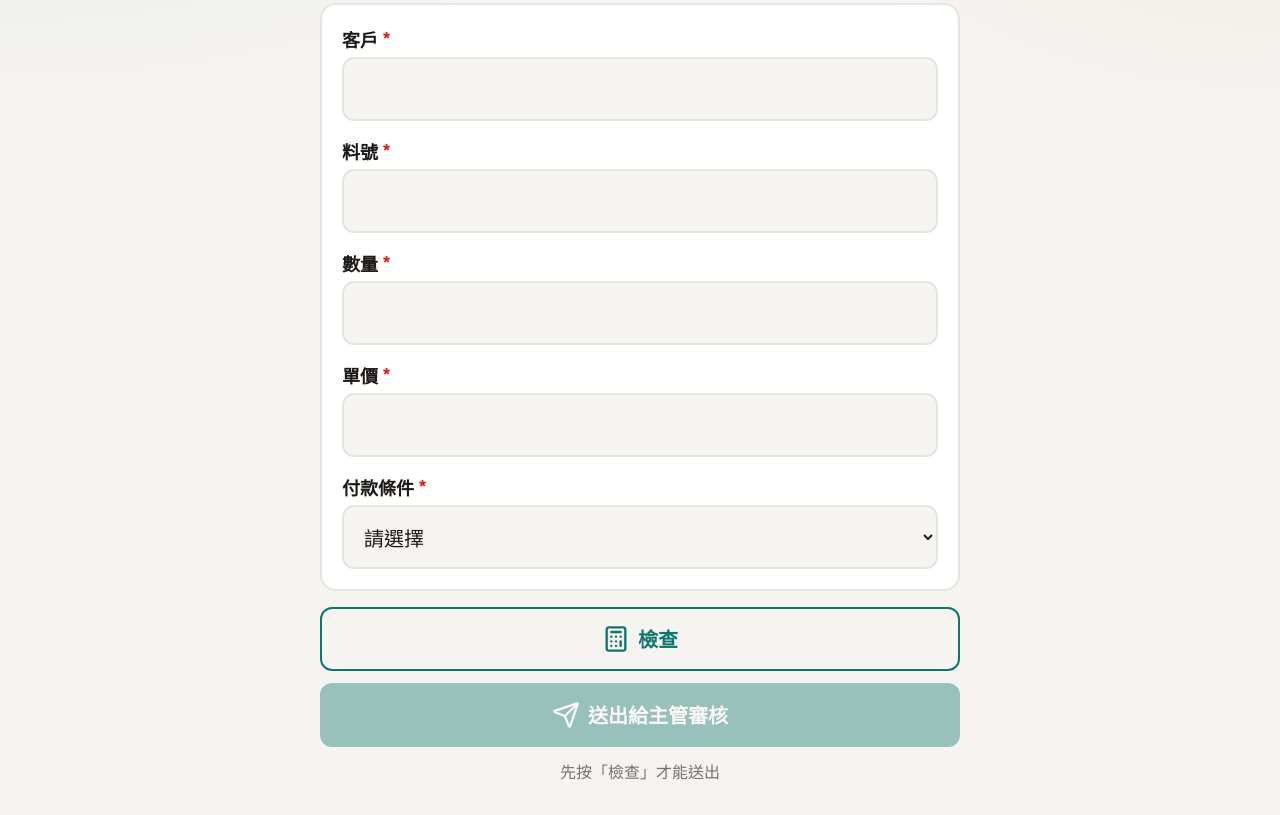
FormPage › 檢查流程：建檔→計算→驗證，通過後可送出審核
Type "台中精機" into the field labelled "客戶*" at (640, 89), box left=342, top=57, right=938, bottom=121
Type "P-100" into the field labelled "料號*" at (640, 201), box left=342, top=169, right=938, bottom=233
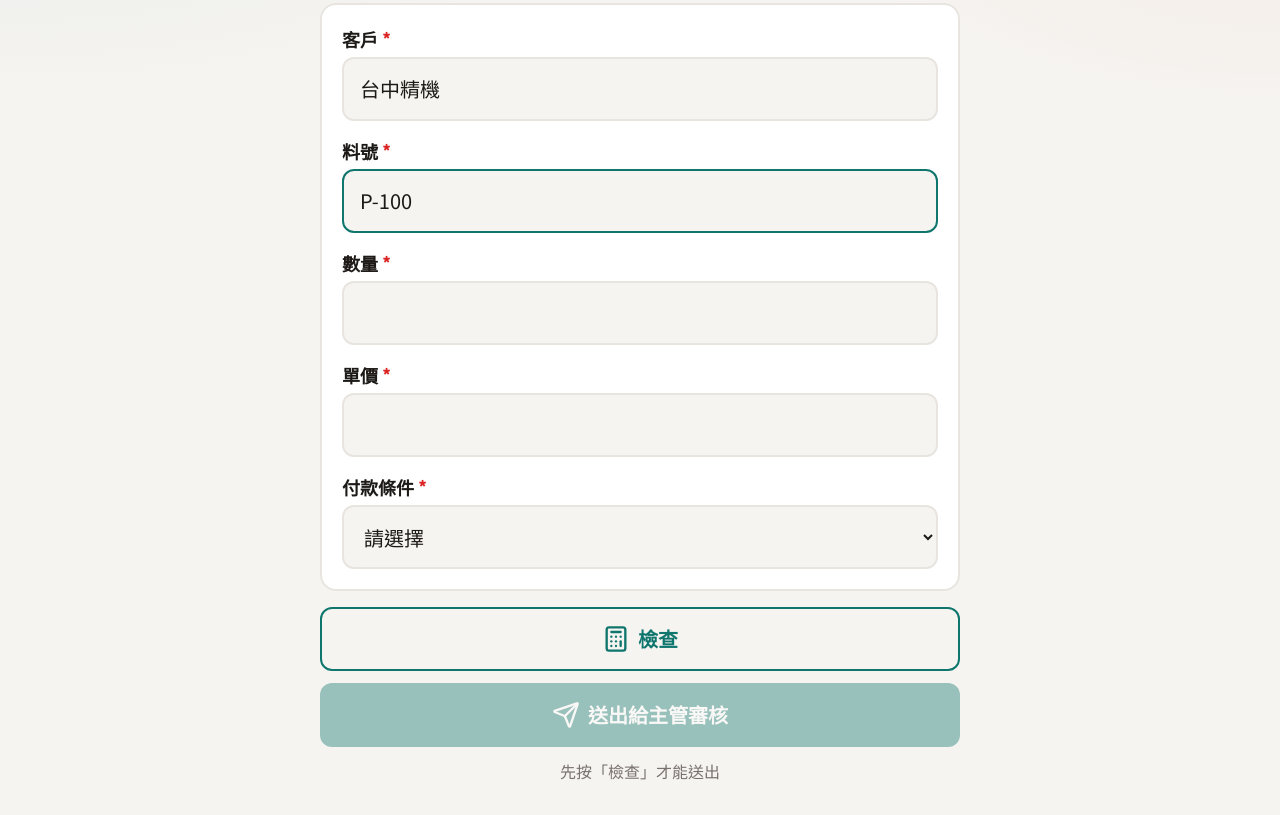
Type "200" into the number field labelled "數量*" at (640, 313), box left=342, top=281, right=938, bottom=345
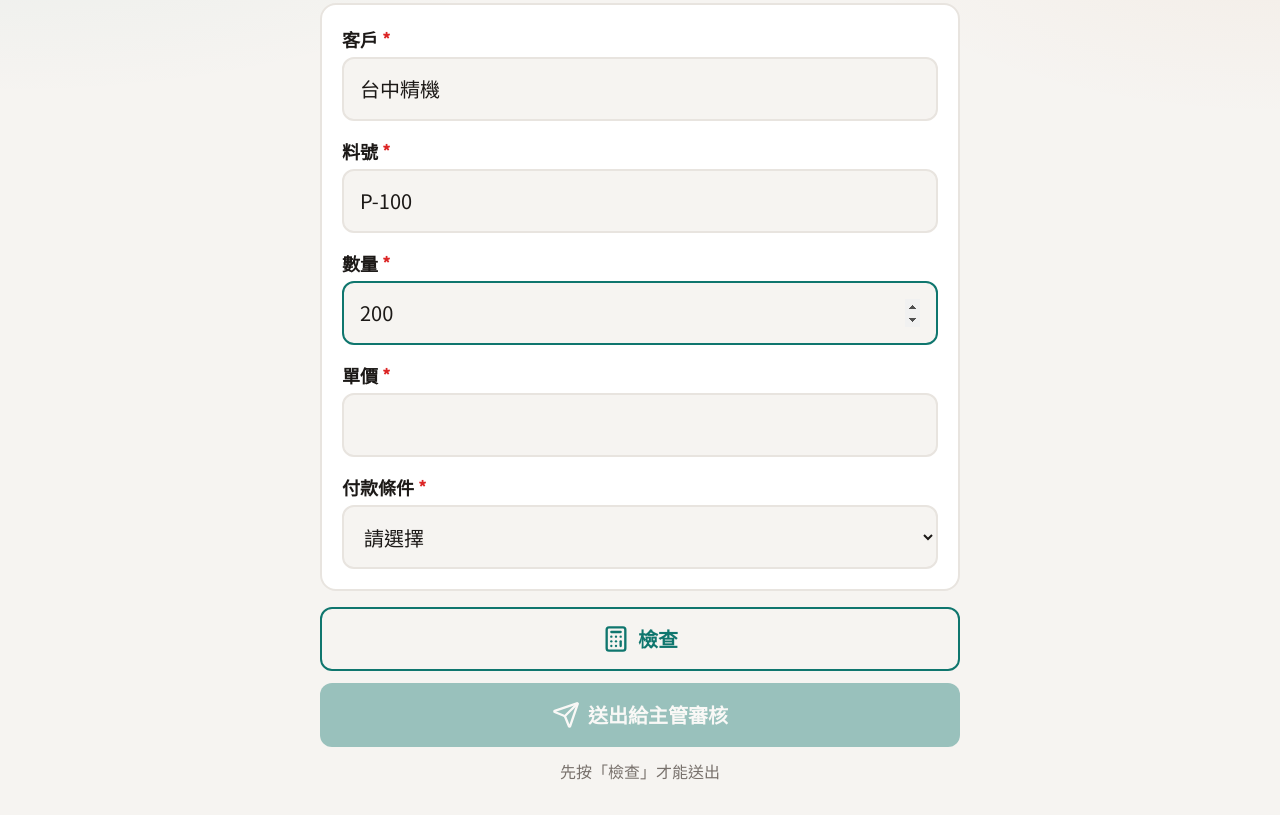
Type "120" into the number field labelled "單價*" at (640, 425), box left=342, top=393, right=938, bottom=457
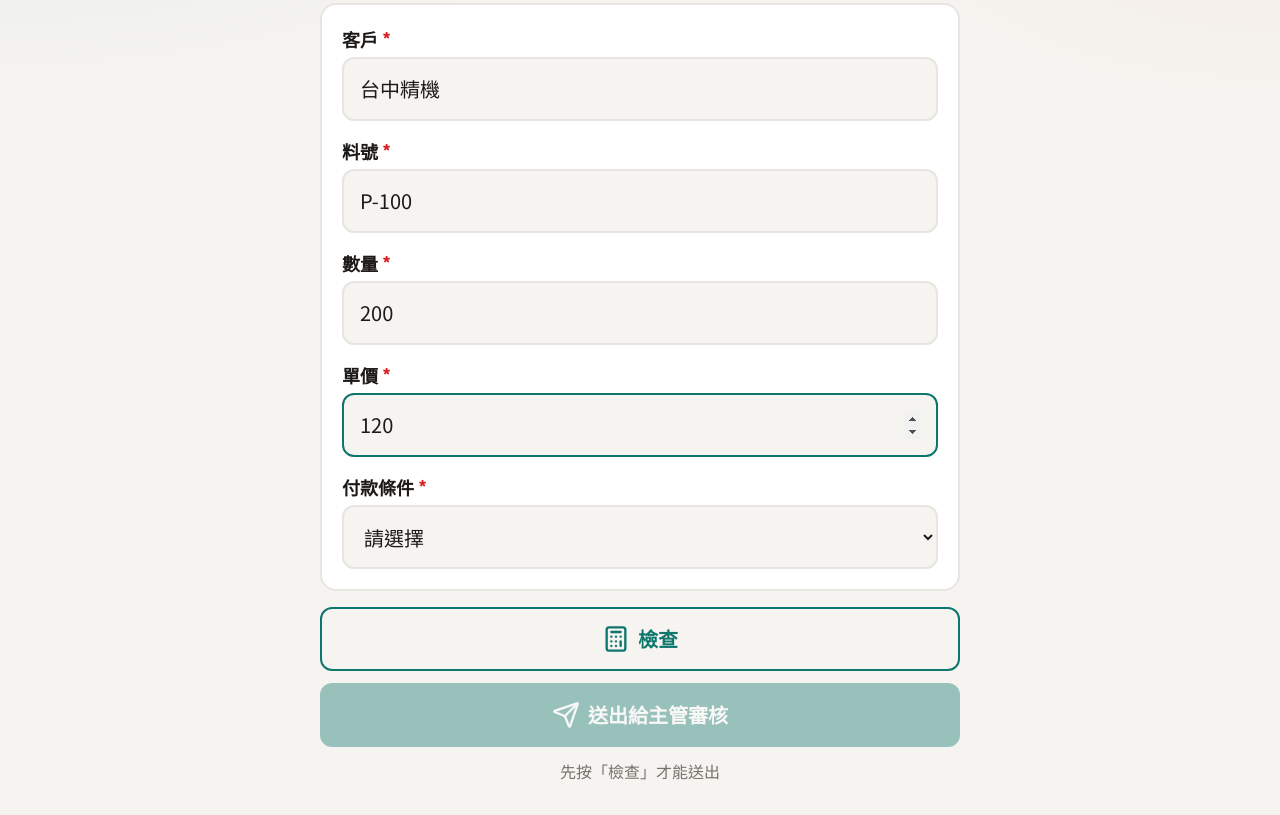
Select "月結30天" in the dropdown labelled "付款條件*" at (640, 537), box left=342, top=505, right=938, bottom=569
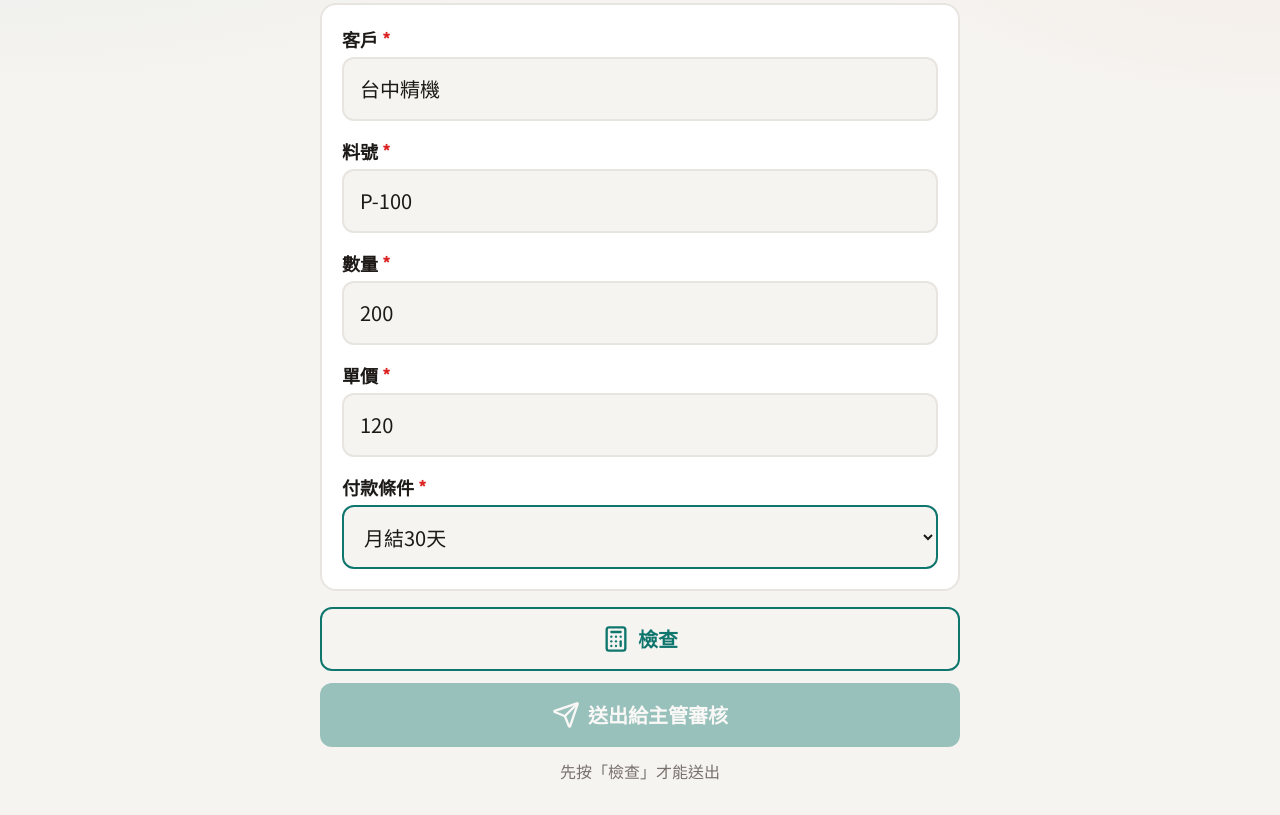
Click the button "檢查" at (640, 639), box left=320, top=607, right=960, bottom=671
(page scrolled)
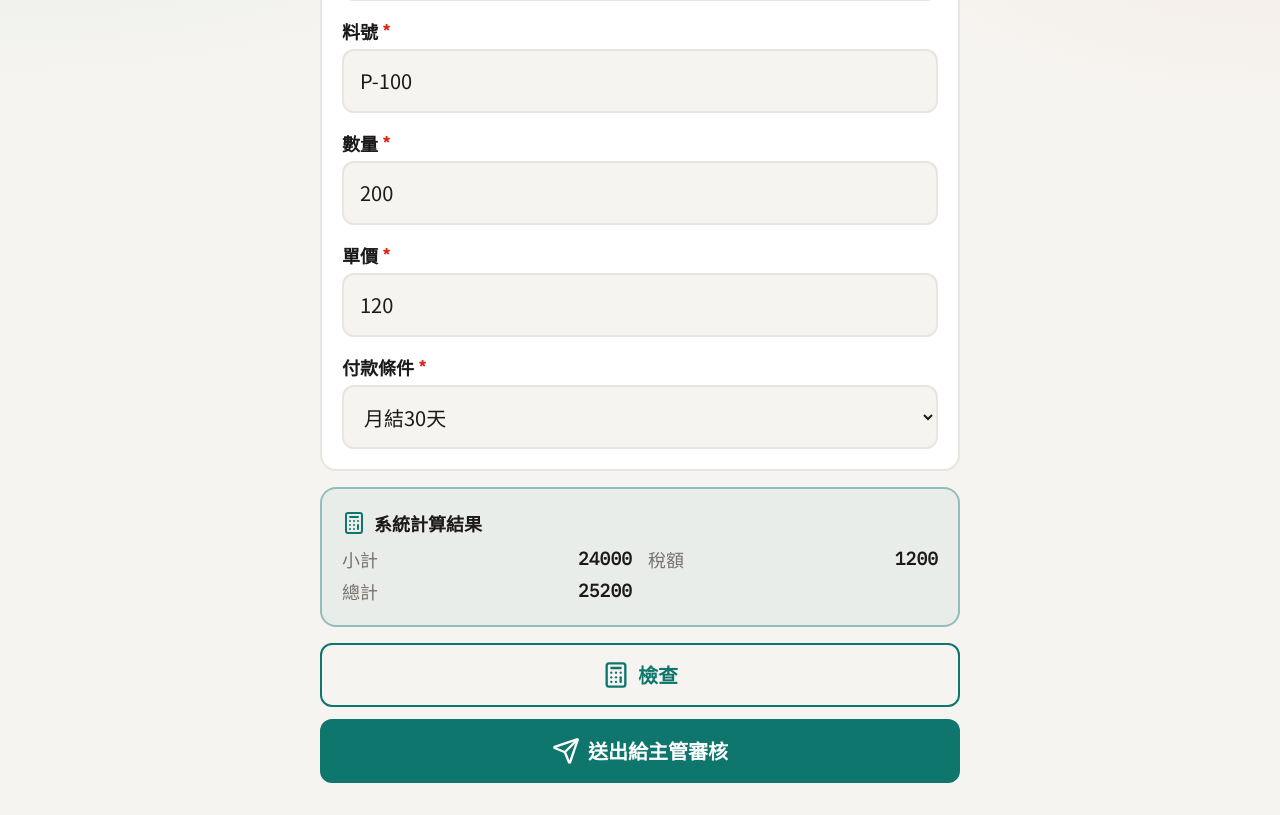
Check: the text "總計" is shown, box left=342, top=577, right=378, bottom=605
Check: the button "送出給主管審核" is enabled
Click the button "送出給主管審核" at (640, 751), box left=320, top=719, right=960, bottom=783
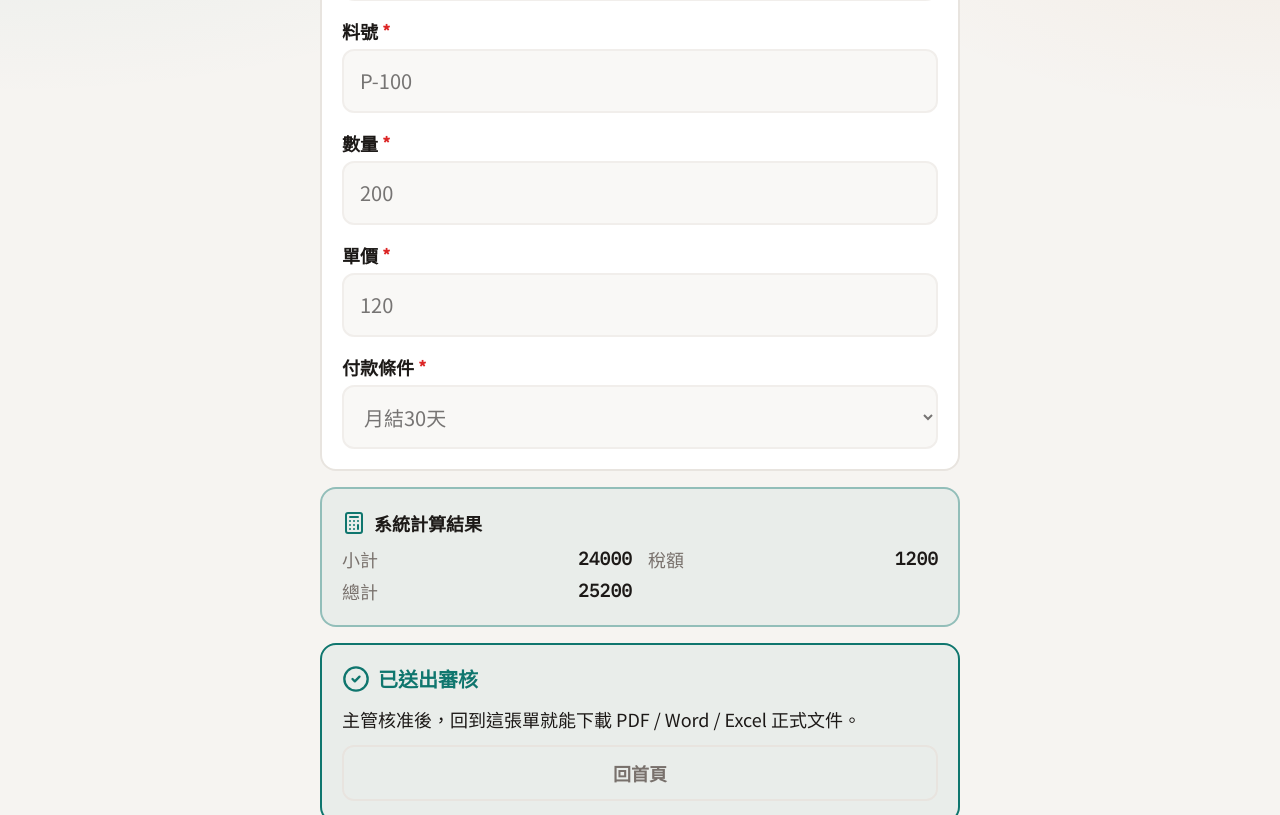
Check: the text "已送出審核" is shown, box left=342, top=664, right=478, bottom=693
